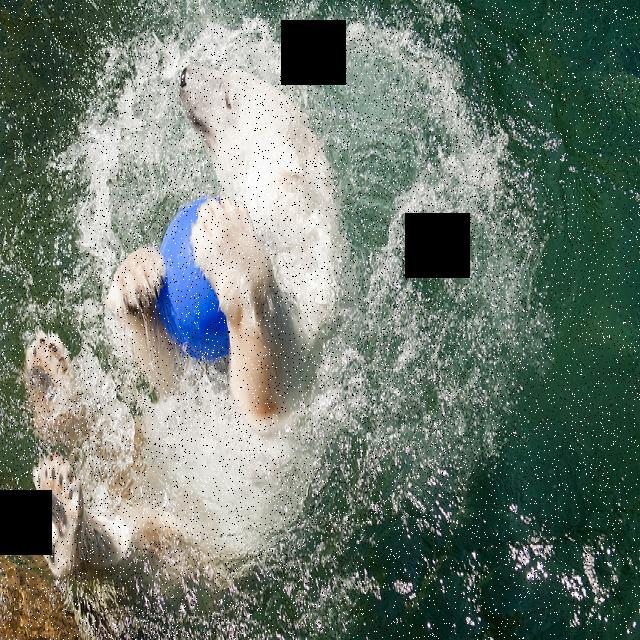Bear: (28, 39, 350, 618)
